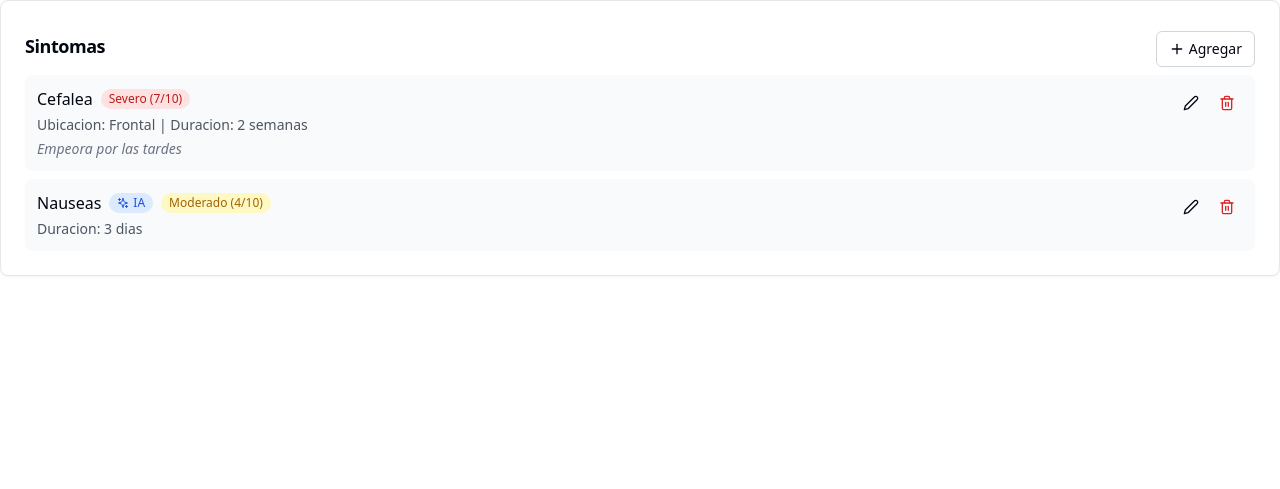
it: SymptomsSection › should show edit form when clicking edit button
First symptom's edit button is the first icon button (index 0)
Click the 2nd button. click: (1191, 103)
box: [1175, 87, 1207, 119]
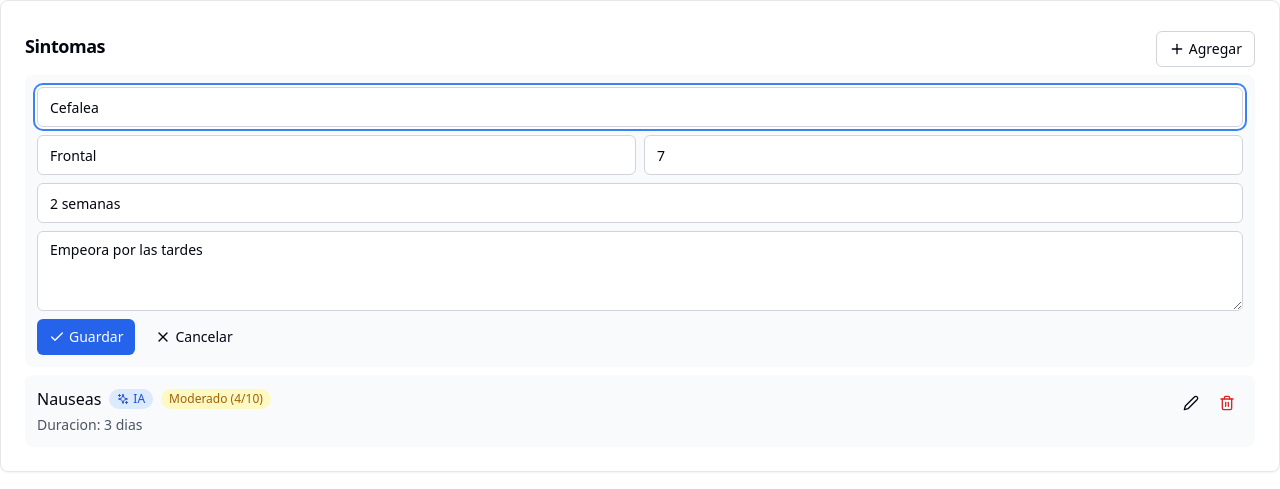
Expected: the 1st field showing "Cefalea" is shown, [37, 87, 1243, 127]
